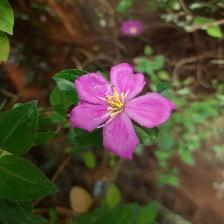malabar melastome: (69, 62, 178, 160)
